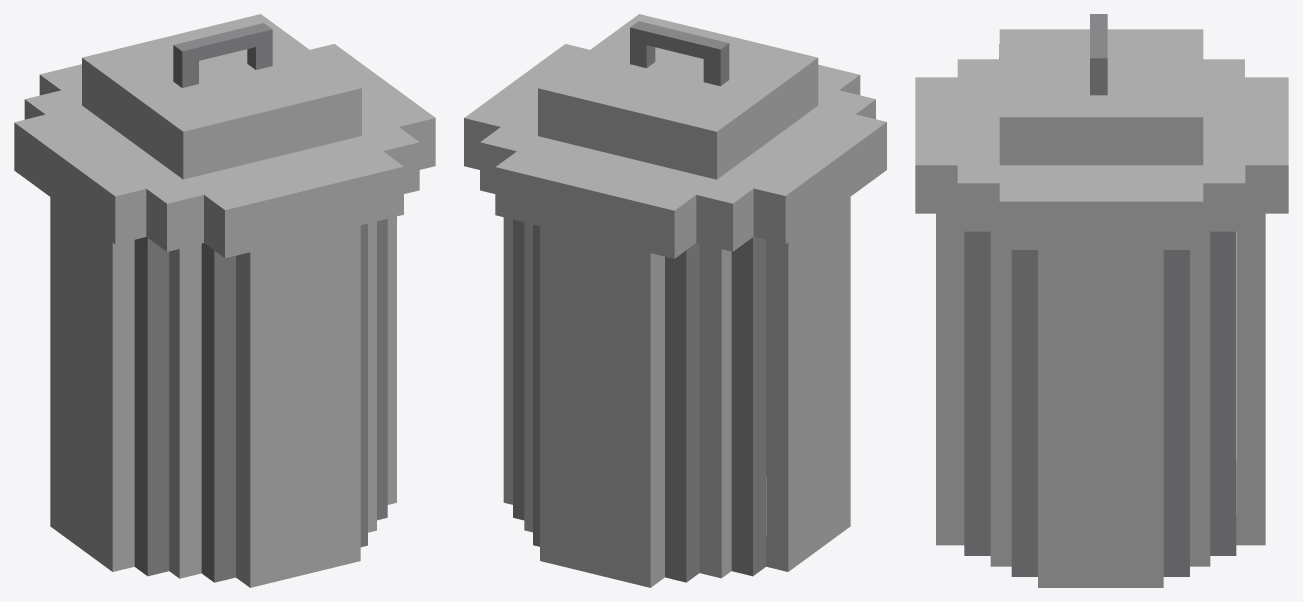
File: trash can.fbx
3 renders of one model, left to right at view 1: azimuth 30°, elevation 25°; view 2: azimuth 150°, elevation 25°; view 3: azimuth 270°, elevation 25°, orthographic.
Visible parts, largest first — view 1: pCube19, pCube28; view 2: pCube19, pCube28; view 3: pCube19, pCube28.
Boxes of the visible parts, bbox=[...] form: pCube19: bbox=[50, 197, 396, 587]; pCube28: bbox=[14, 14, 435, 258]; pCube19: bbox=[503, 197, 850, 587]; pCube28: bbox=[464, 14, 886, 258]; pCube19: bbox=[936, 213, 1265, 587]; pCube28: bbox=[915, 14, 1288, 249].
Bounding box in the file's own units: 28.95 × 41.26 × 29.
